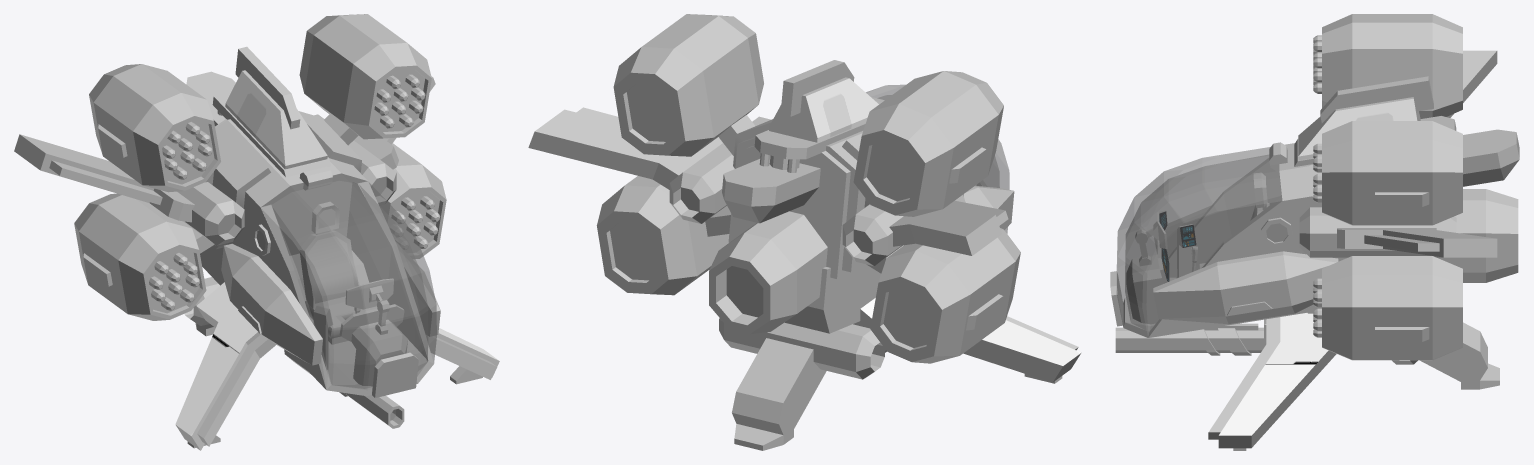
The model's file is SM_SpaceshipS_Assault03.fbx.
The picture shows the model from 3 angles, left to right: view 1: azimuth 30°, elevation 25°; view 2: azimuth 150°, elevation 25°; view 3: azimuth 270°, elevation 25°; orthographic projection. The views are drawn at different scales.
Parts seen in each view (by area): view 1: SM_SpaceshipS_Assault03_Body, SM_SpaceshipS_Assault03_Cockpit_Glass, SM_SpaceshipS_Assault03_RL_T_R, SM_SpaceshipS_Assault03_RL_T_L, SM_SpaceshipS_Assault03_RL_B_L, SM_SpaceshipS_Assault03_RL_B_R, SM_SpaceshipS_Assault03_Cannon; view 2: SM_SpaceshipS_Assault03_Body, SM_SpaceshipS_Assault03_RL_T_R, SM_SpaceshipS_Assault03_RL_T_L, SM_SpaceshipS_Assault03_RL_B_L, SM_SpaceshipS_Assault03_RL_B_R, SM_SpaceshipS_Assault03_Cockpit_Glass; view 3: SM_SpaceshipS_Assault03_Body, SM_SpaceshipS_Assault03_Cockpit_Glass, SM_SpaceshipS_Assault03_RL_T_R, SM_SpaceshipS_Assault03_RL_B_R, SM_SpaceshipS_Assault03_RL_T_L, SM_SpaceshipS_Assault03_Cannon.
Part boxes in pixels (x1,y1,x2,y2): SM_SpaceshipS_Assault03_Body: (14, 46, 499, 450); SM_SpaceshipS_Assault03_Cockpit_Glass: (261, 173, 436, 397); SM_SpaceshipS_Assault03_RL_T_R: (299, 14, 431, 145); SM_SpaceshipS_Assault03_RL_T_L: (89, 64, 220, 192); SM_SpaceshipS_Assault03_RL_B_L: (74, 193, 214, 320); SM_SpaceshipS_Assault03_RL_B_R: (380, 143, 446, 258); SM_SpaceshipS_Assault03_Cannon: (284, 349, 404, 428); SM_SpaceshipS_Assault03_Body: (528, 60, 1081, 450); SM_SpaceshipS_Assault03_RL_T_R: (613, 14, 763, 156); SM_SpaceshipS_Assault03_RL_T_L: (853, 71, 1003, 216); SM_SpaceshipS_Assault03_RL_B_L: (866, 228, 1020, 363); SM_SpaceshipS_Assault03_RL_B_R: (596, 176, 730, 295); SM_SpaceshipS_Assault03_Cockpit_Glass: (866, 84, 1009, 233); SM_SpaceshipS_Assault03_Body: (1123, 50, 1519, 450); SM_SpaceshipS_Assault03_Cockpit_Glass: (1110, 147, 1282, 337); SM_SpaceshipS_Assault03_RL_T_R: (1322, 121, 1462, 225); SM_SpaceshipS_Assault03_RL_B_R: (1322, 256, 1462, 360); SM_SpaceshipS_Assault03_RL_T_L: (1322, 14, 1462, 118); SM_SpaceshipS_Assault03_Cannon: (1115, 319, 1266, 355).
Size of the model in its own units: 437 by 323 by 390.
